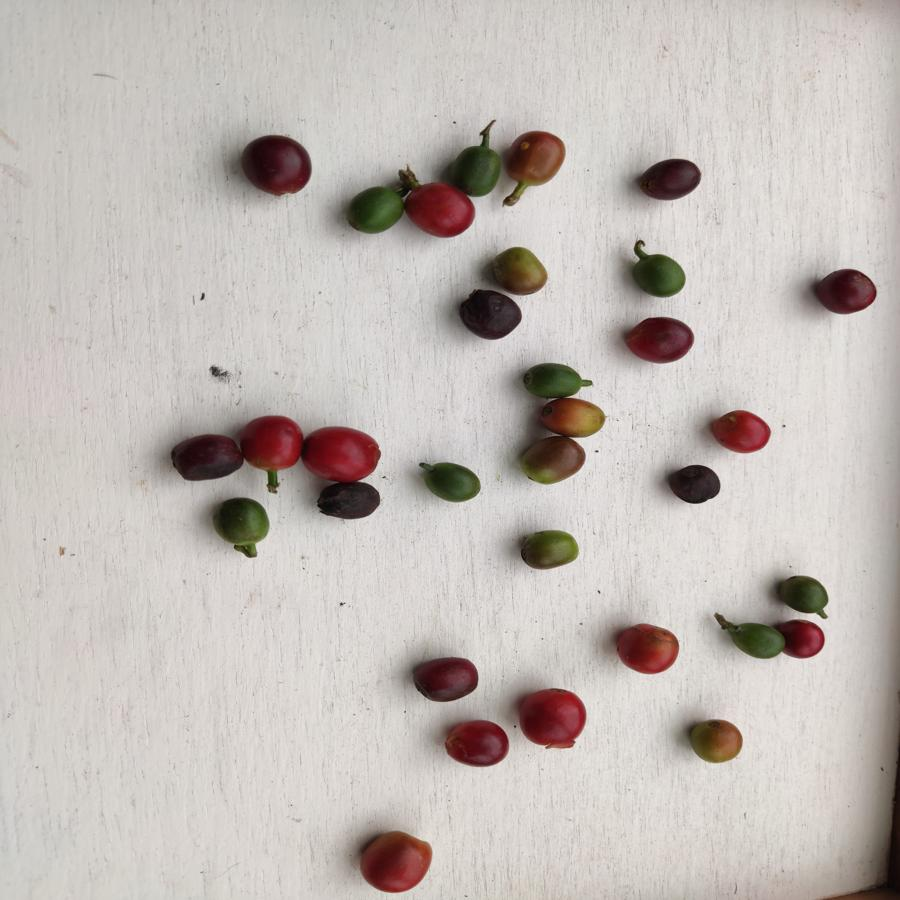Inmaduro: (343, 178, 408, 242), (212, 491, 278, 553), (420, 459, 485, 508), (725, 612, 783, 661), (451, 142, 501, 198), (631, 252, 688, 301), (773, 572, 830, 616), (521, 361, 590, 396)
Maduro: (352, 833, 438, 894), (516, 685, 588, 752), (307, 424, 382, 479), (241, 415, 307, 474), (406, 184, 474, 238), (615, 621, 680, 676), (441, 719, 512, 766), (712, 408, 773, 459)
Pinton: (508, 128, 565, 188), (685, 716, 749, 764), (523, 436, 585, 484), (491, 245, 550, 295), (537, 398, 610, 438), (519, 526, 582, 572)
Sobremaduro: (239, 136, 315, 200), (811, 262, 879, 318), (628, 311, 698, 365), (169, 433, 242, 481), (455, 289, 522, 340), (407, 656, 480, 702), (637, 157, 702, 206), (315, 480, 385, 521), (663, 462, 724, 507), (783, 617, 826, 660)
